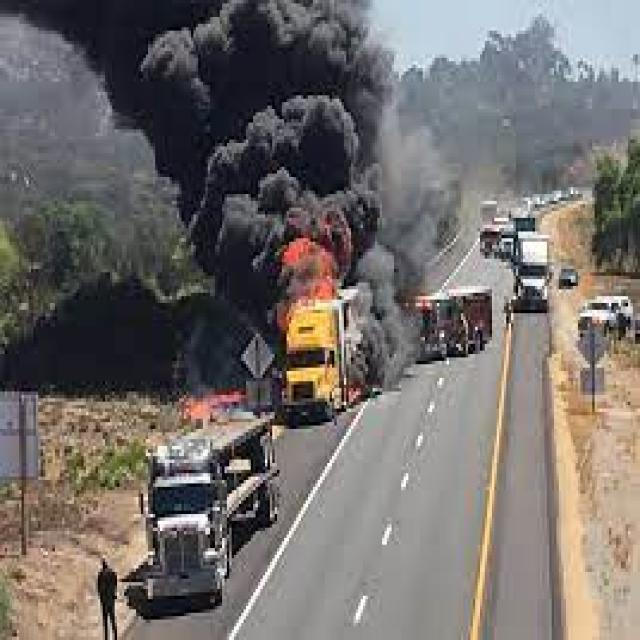smoke: (2, 3, 392, 300), (370, 92, 456, 259), (342, 248, 421, 392), (174, 300, 242, 415)
